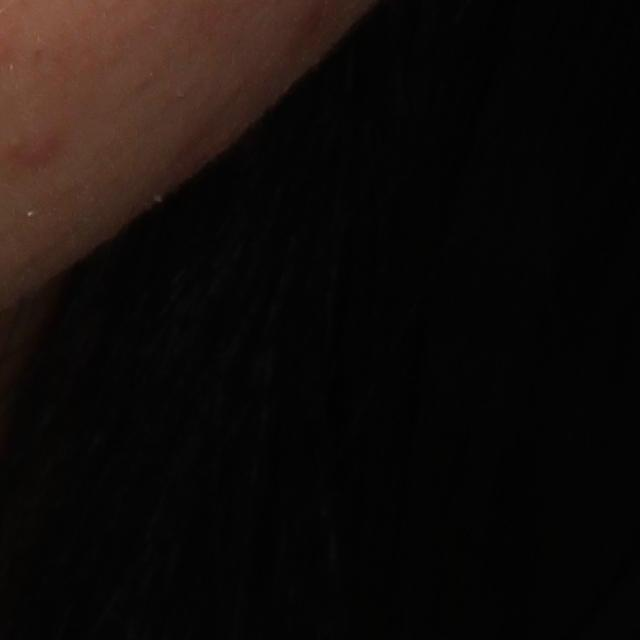papule: (8, 128, 61, 159)
